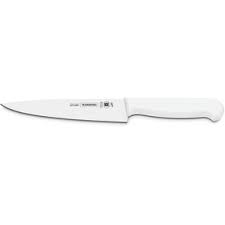kuchillu: (1, 94, 224, 128)
